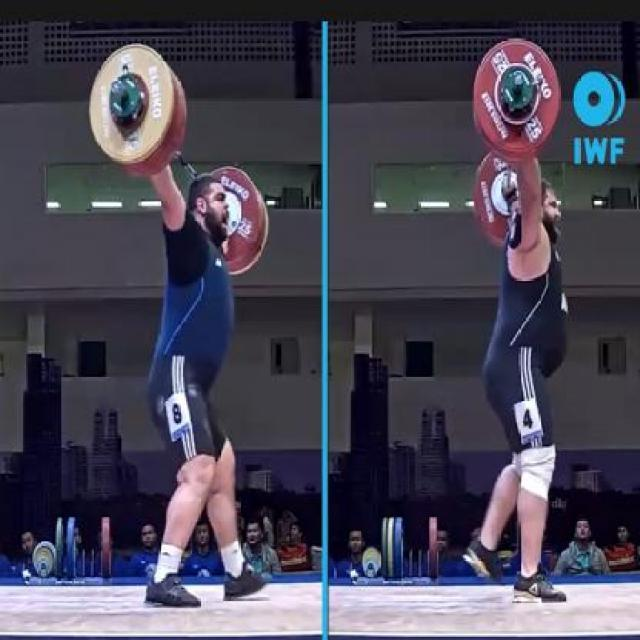Barbell: (109, 77, 125, 97), (511, 68, 526, 89)
